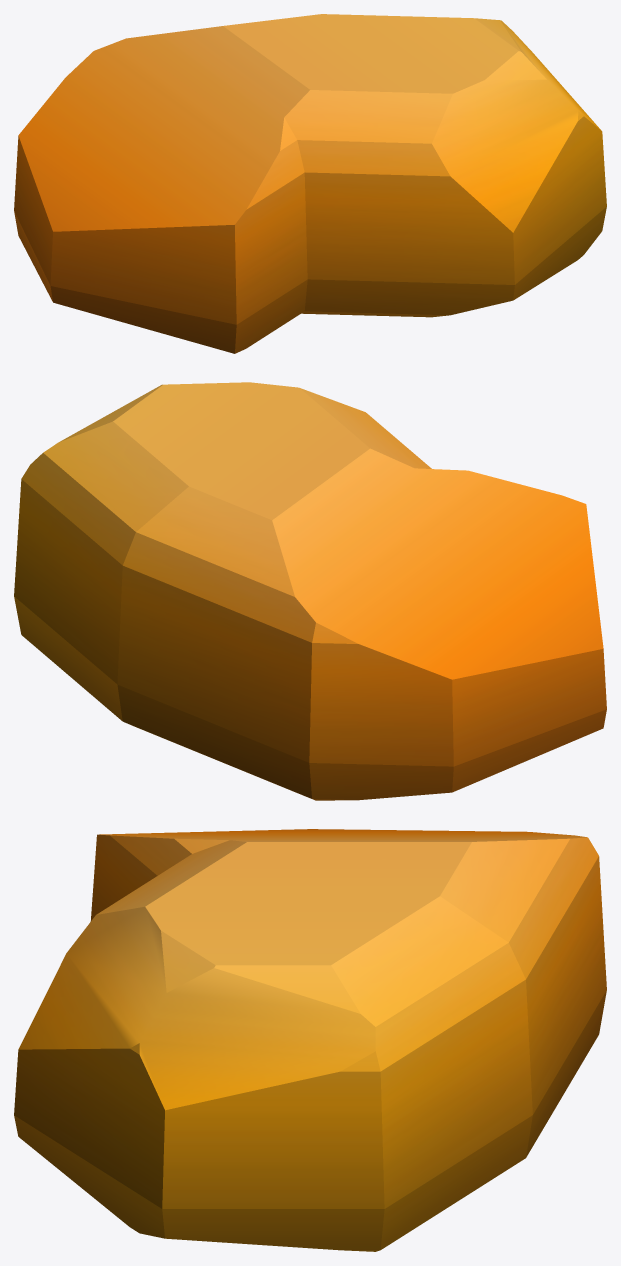
Rendered from boulder4.FBX.
3 renders of one model, top to bottom at view 1: azimuth 30°, elevation 25°; view 2: azimuth 150°, elevation 25°; view 3: azimuth 270°, elevation 25°, orthographic. The views are drawn at different scales.
Visible parts, largest first — view 1: boulder4; view 2: boulder4; view 3: boulder4.
Part boxes in pixels (x1,y1,x2,y2): boulder4: (14, 14, 606, 353); boulder4: (14, 382, 606, 800); boulder4: (14, 829, 606, 1251).
Size of the model in its own units: 1 by 0.8 by 0.399.
Materials: 1 (1 with a texture image).
